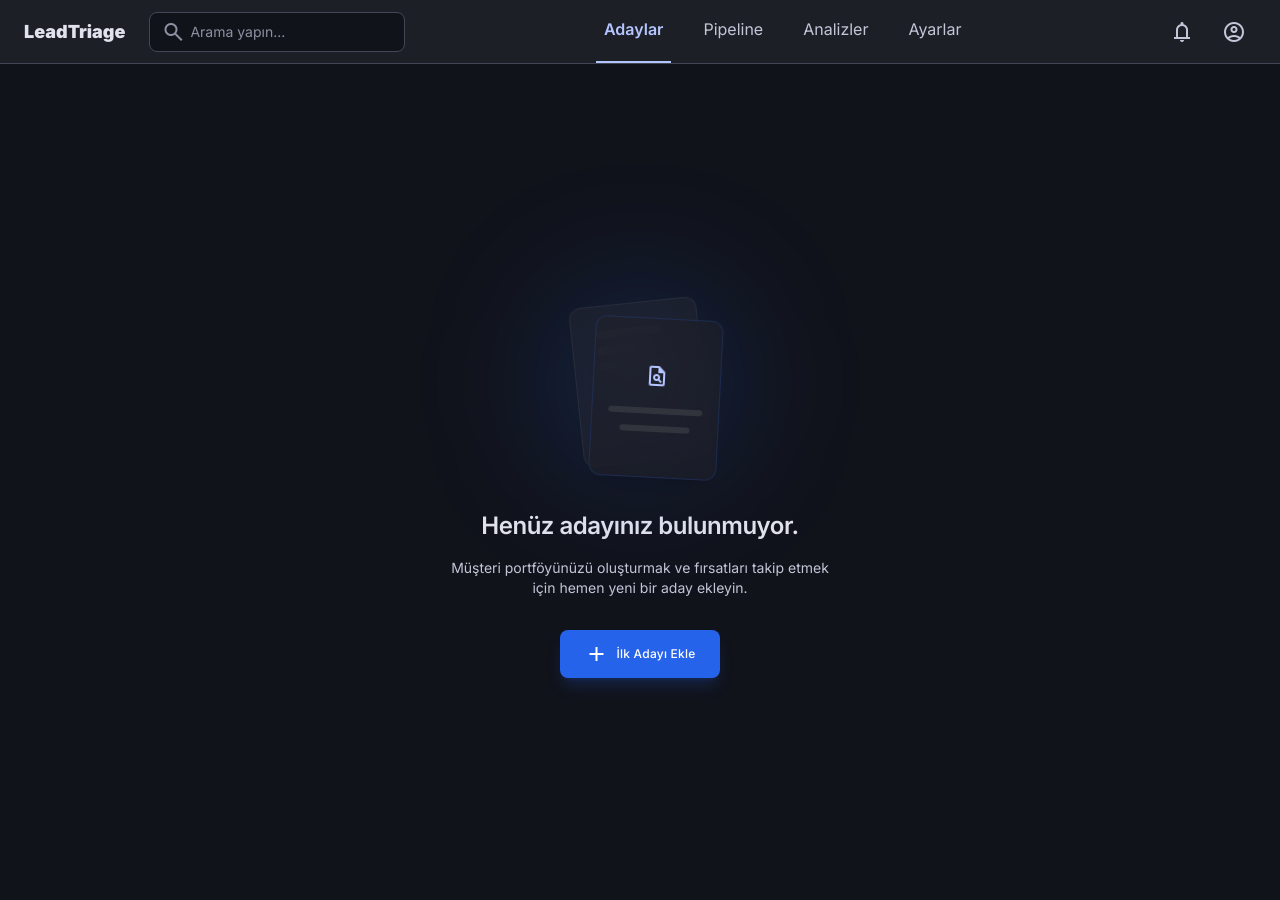
App › closes profile panel
Click the button named "Profil" at (1234, 32), box [1212,10,1256,54]
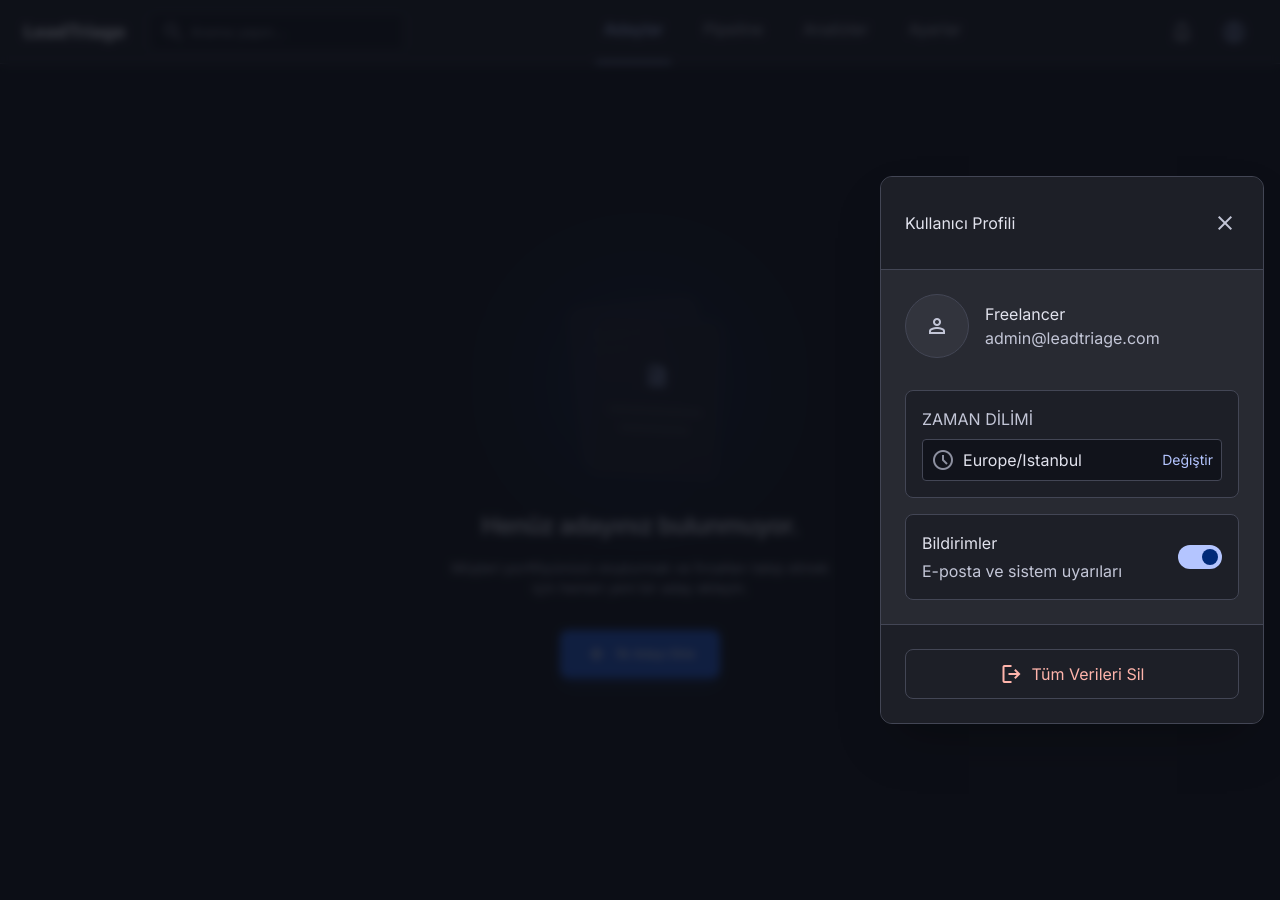
Click the button named "Kapat" at (1225, 223), box [1203,201,1247,245]
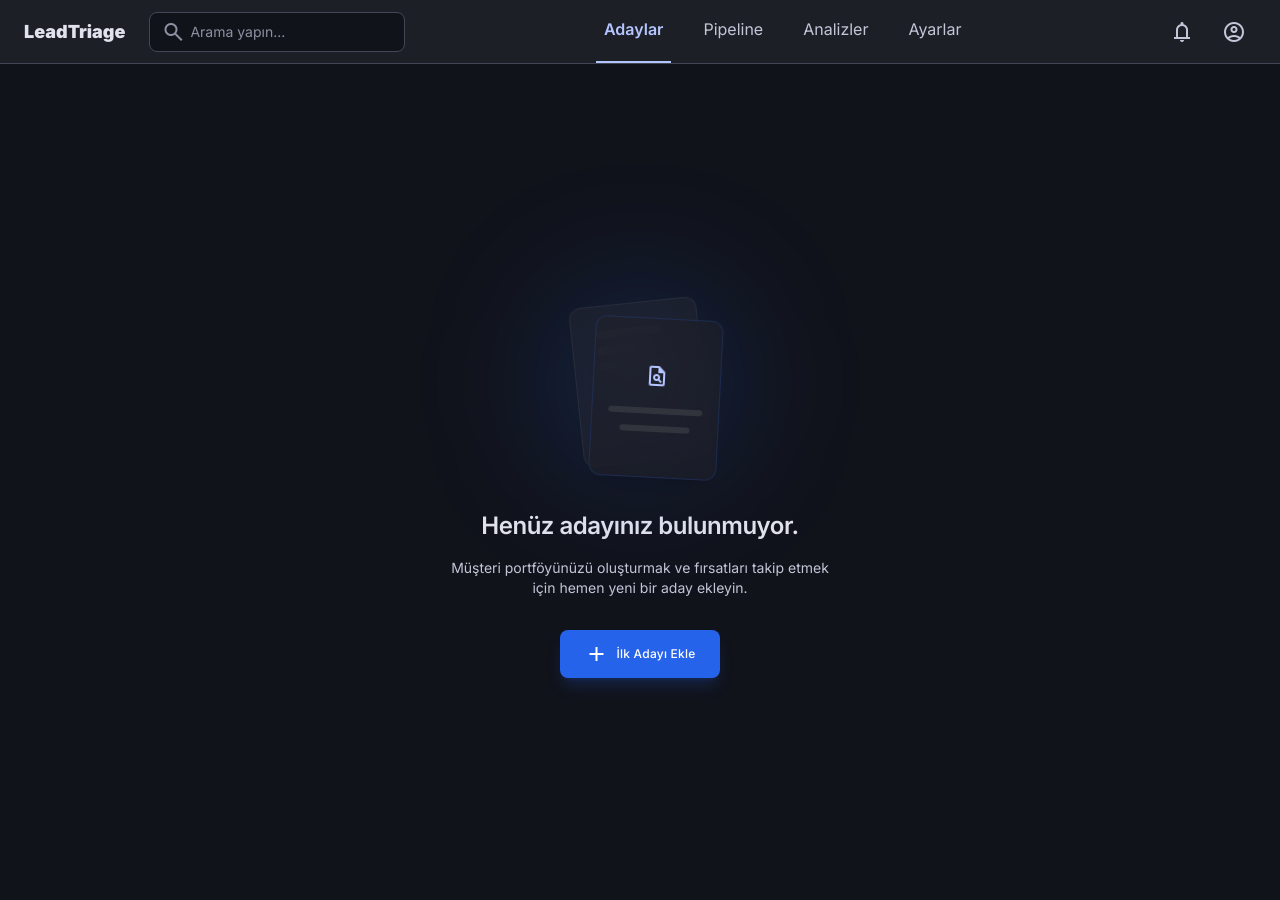
Check: the heading "Kullanıcı Profili" is gone
